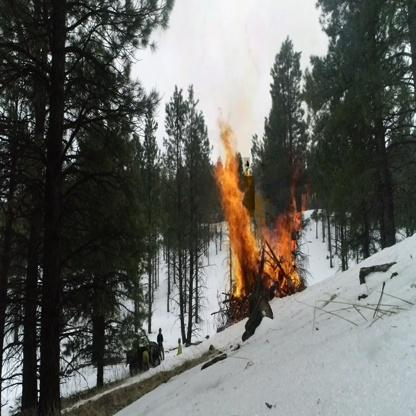Fire: (212, 110, 308, 301)
